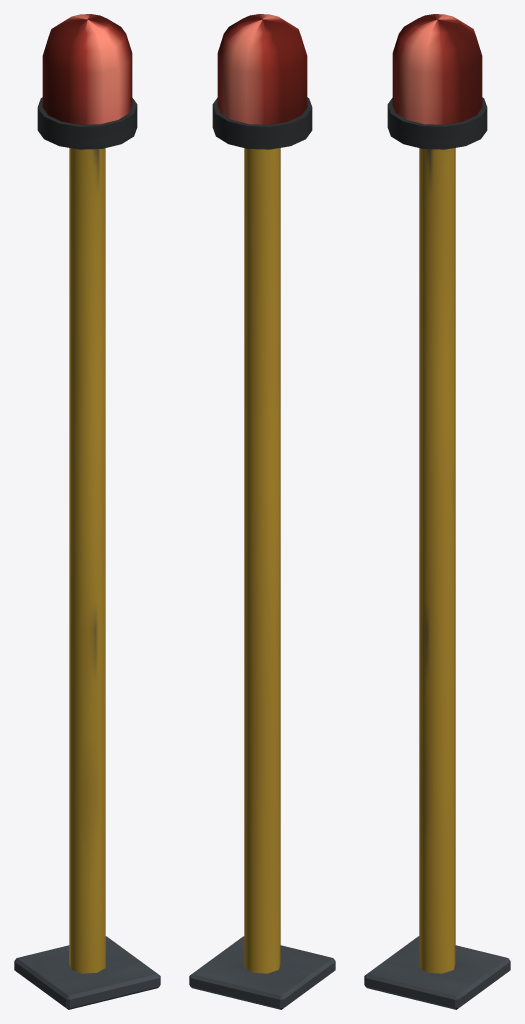
File: beacon_lc.obj
3 renders of one model, left to right at view 1: azimuth 30°, elevation 25°; view 2: azimuth 150°, elevation 25°; view 3: azimuth 330°, elevation 25°, orthographic.
Parts seen in each view (by area): view 1: beacon_lc, beacon_lc_lamp; view 2: beacon_lc, beacon_lc_lamp; view 3: beacon_lc, beacon_lc_lamp.
Part boxes in pixels (bbox=[...]): beacon_lc: bbox=[14, 19, 160, 1009]; beacon_lc_lamp: bbox=[42, 14, 132, 124]; beacon_lc: bbox=[189, 19, 335, 1009]; beacon_lc_lamp: bbox=[217, 14, 307, 124]; beacon_lc: bbox=[364, 19, 510, 1009]; beacon_lc_lamp: bbox=[392, 14, 482, 124].
Size of the model in its own units: 0.35 by 3.38 by 0.35.
1 material, 1 textured.
